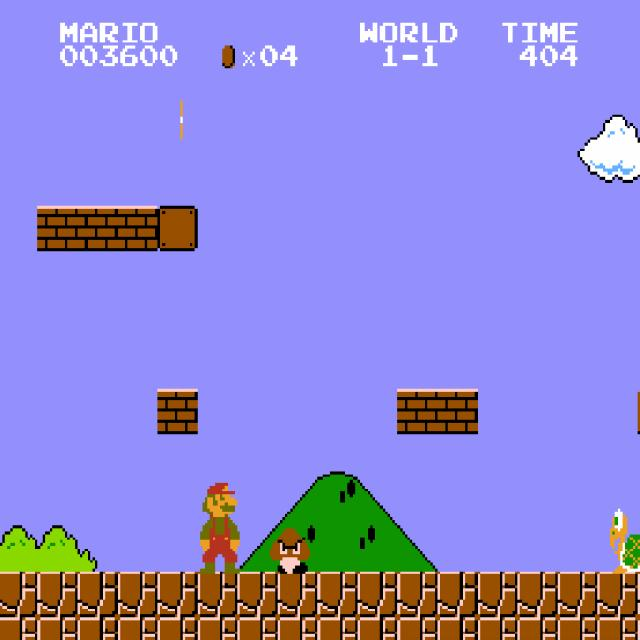big_mario: (197, 480, 240, 574)
brick_block: (37, 206, 78, 251), (77, 206, 118, 251), (117, 206, 158, 251), (157, 389, 198, 434), (397, 389, 438, 434), (437, 389, 478, 434)
empty_block: (157, 206, 198, 251)
goomba: (268, 526, 310, 574)
koopa: (607, 506, 640, 574)
mystery_block: (637, 388, 640, 434)
undestructible_block: (37, 572, 78, 617), (77, 572, 118, 617), (117, 572, 158, 617), (157, 572, 198, 617), (197, 572, 238, 617), (237, 572, 278, 617), (277, 572, 318, 617), (317, 572, 358, 617), (357, 572, 398, 617), (397, 572, 438, 617), (437, 572, 478, 617), (477, 572, 518, 617), (517, 572, 558, 617), (557, 572, 598, 617), (597, 572, 638, 617), (0, 572, 37, 617), (37, 617, 78, 640), (77, 617, 118, 640), (117, 617, 158, 640), (157, 617, 198, 640), (197, 617, 238, 640), (237, 617, 278, 640), (277, 617, 318, 640), (317, 617, 358, 640), (357, 617, 398, 640), (397, 617, 438, 640), (437, 617, 478, 640), (477, 617, 518, 640), (517, 617, 558, 640), (557, 617, 598, 640), (597, 617, 638, 640), (0, 617, 37, 640), (637, 571, 640, 617), (637, 617, 640, 639)
